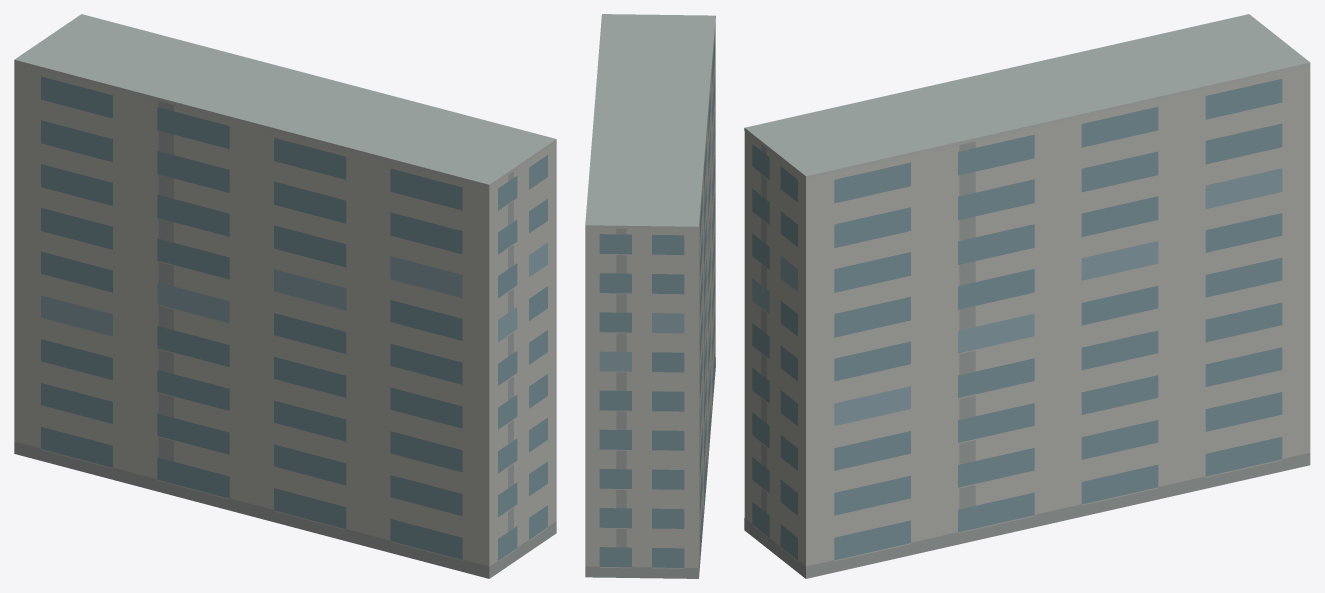
Rendered from residential-c9933534-186d-4bb0-942e-9f667decde69.glb.
3 views of the same model, side by side, from view 1: azimuth 30°, elevation 25°; view 2: azimuth 150°, elevation 25°; view 3: azimuth 270°, elevation 25° (orthographic). The views are drawn at different scales.
Visible parts, largest first — view 1: residential-c9933534-186d-4bb0-942e-9f667decde69.tmp; view 2: residential-c9933534-186d-4bb0-942e-9f667decde69.tmp; view 3: residential-c9933534-186d-4bb0-942e-9f667decde69.tmp.
Boxes of the visible parts, x1=… form: residential-c9933534-186d-4bb0-942e-9f667decde69.tmp: x1=14, y1=14, x2=556, y2=578; residential-c9933534-186d-4bb0-942e-9f667decde69.tmp: x1=585, y1=14, x2=715, y2=578; residential-c9933534-186d-4bb0-942e-9f667decde69.tmp: x1=744, y1=14, x2=1310, y2=578.
Bounding box in the file's own units: 25.07 × 29 × 36.95.
